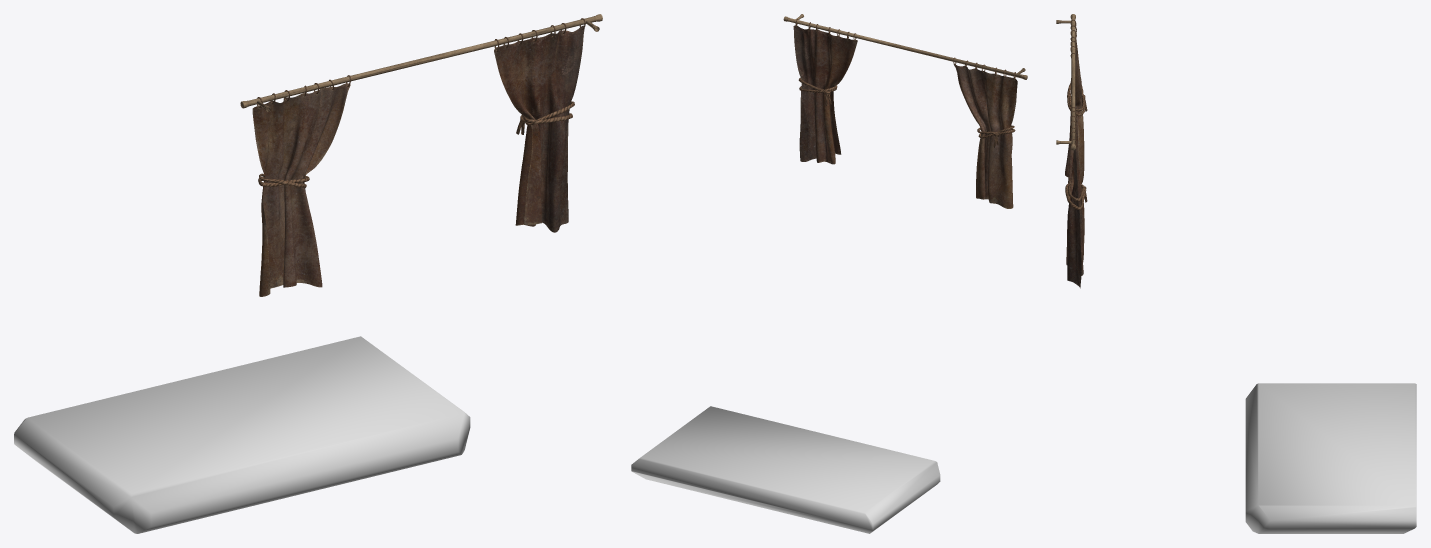
The model's file is SM_Curtains_A.fbx.
The picture shows the model from 3 angles, left to right: view 1: azimuth 30°, elevation 25°; view 2: azimuth 150°, elevation 25°; view 3: azimuth 270°, elevation 25°; orthographic projection. The views are drawn at different scales.
Visible parts, largest first — view 1: SM_Curtains_A_ConvexHulls, SM_Curtains_A; view 2: SM_Curtains_A_ConvexHulls, SM_Curtains_A; view 3: SM_Curtains_A_ConvexHulls, SM_Curtains_A.
Part boxes in pixels (x1,y1,x2,y2): SM_Curtains_A_ConvexHulls: (14,336,470,533); SM_Curtains_A: (240,14,602,296); SM_Curtains_A_ConvexHulls: (631,406,940,533); SM_Curtains_A: (783,14,1027,208); SM_Curtains_A_ConvexHulls: (1245,383,1416,533); SM_Curtains_A: (1056,14,1087,288).
Bounding box in the file's own units: 2.08 × 2.89 × 2.4.
